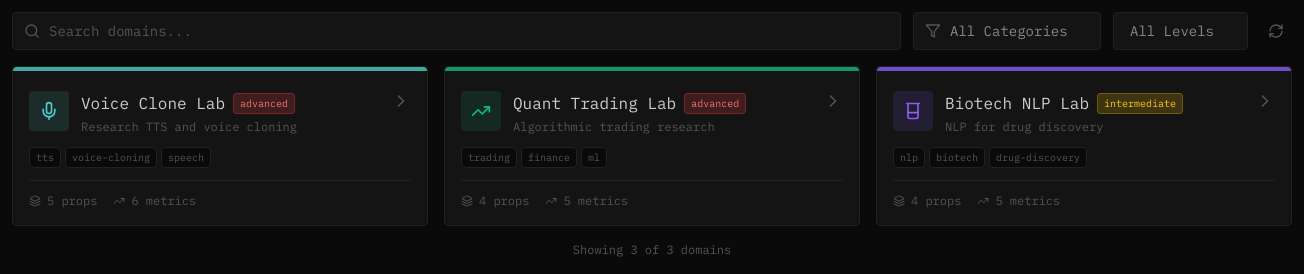
Test: DomainBrowser › difficulty filtering › filters by difficulty level
Find the difficulty select
Step 1. Select "Intermediate" in the 2nd dropdown → coordinates (1180, 31), box [1113,12,1248,50]
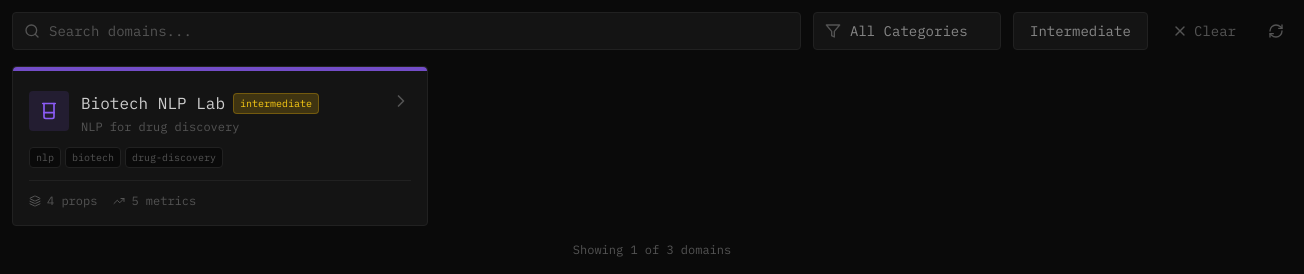
Expected: the heading "Biotech NLP Lab" is shown, [81,91,225,115]
Expected: the link "Voice Clone Lab" is gone
